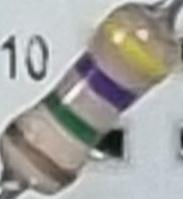Blue: (70, 51, 140, 114)
Green: (40, 88, 105, 151)
Side-Gold: (5, 117, 77, 187)
Yellow: (98, 13, 173, 86)
